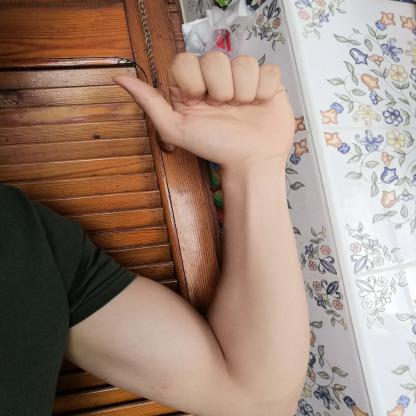DAD: (100, 43, 305, 174)
